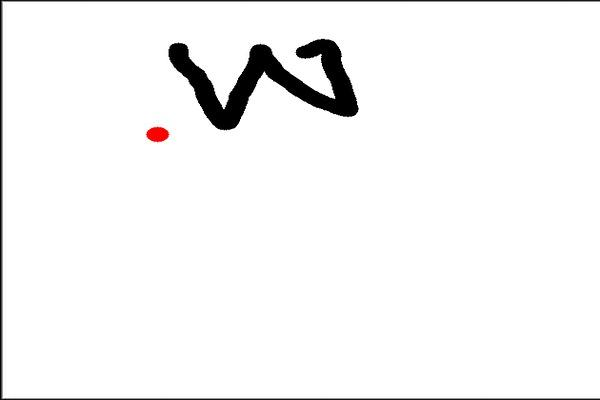w: (163, 18, 366, 140)
